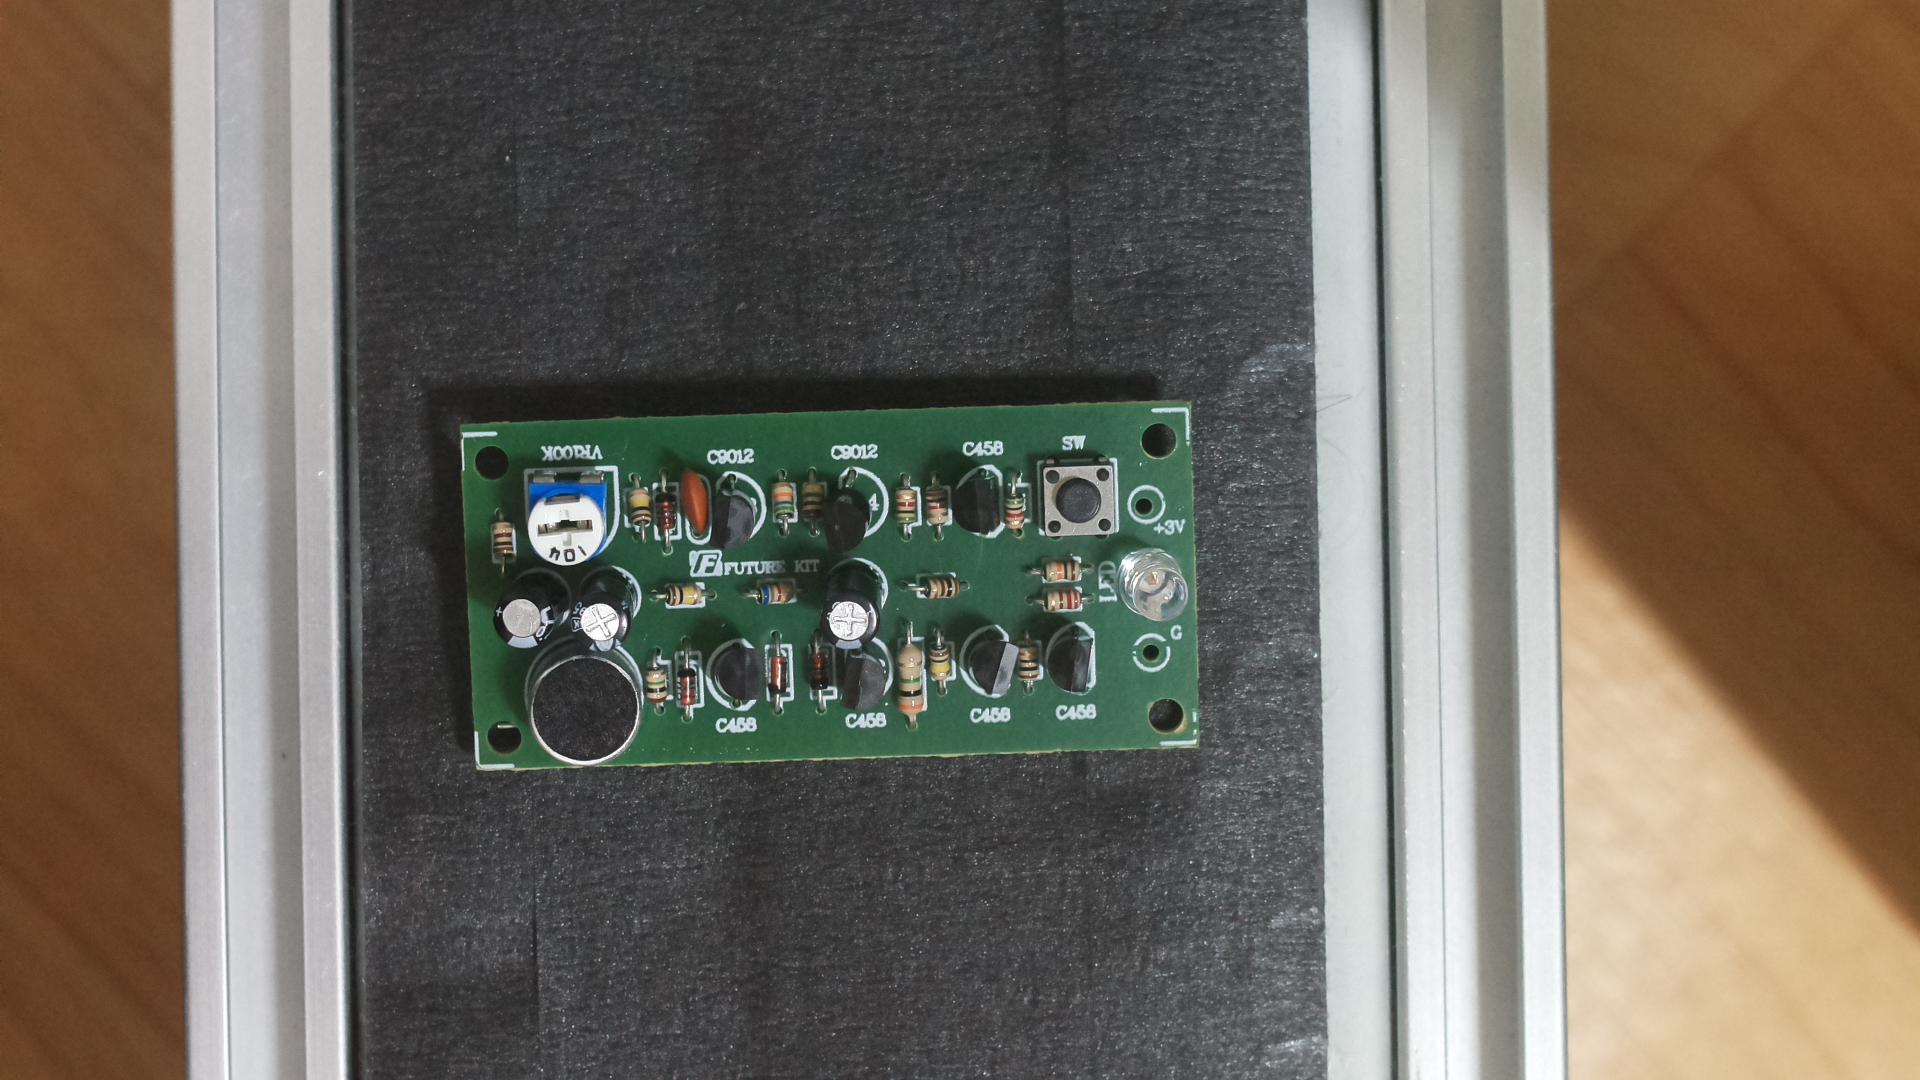A_Normal: (446, 406, 1215, 783)
